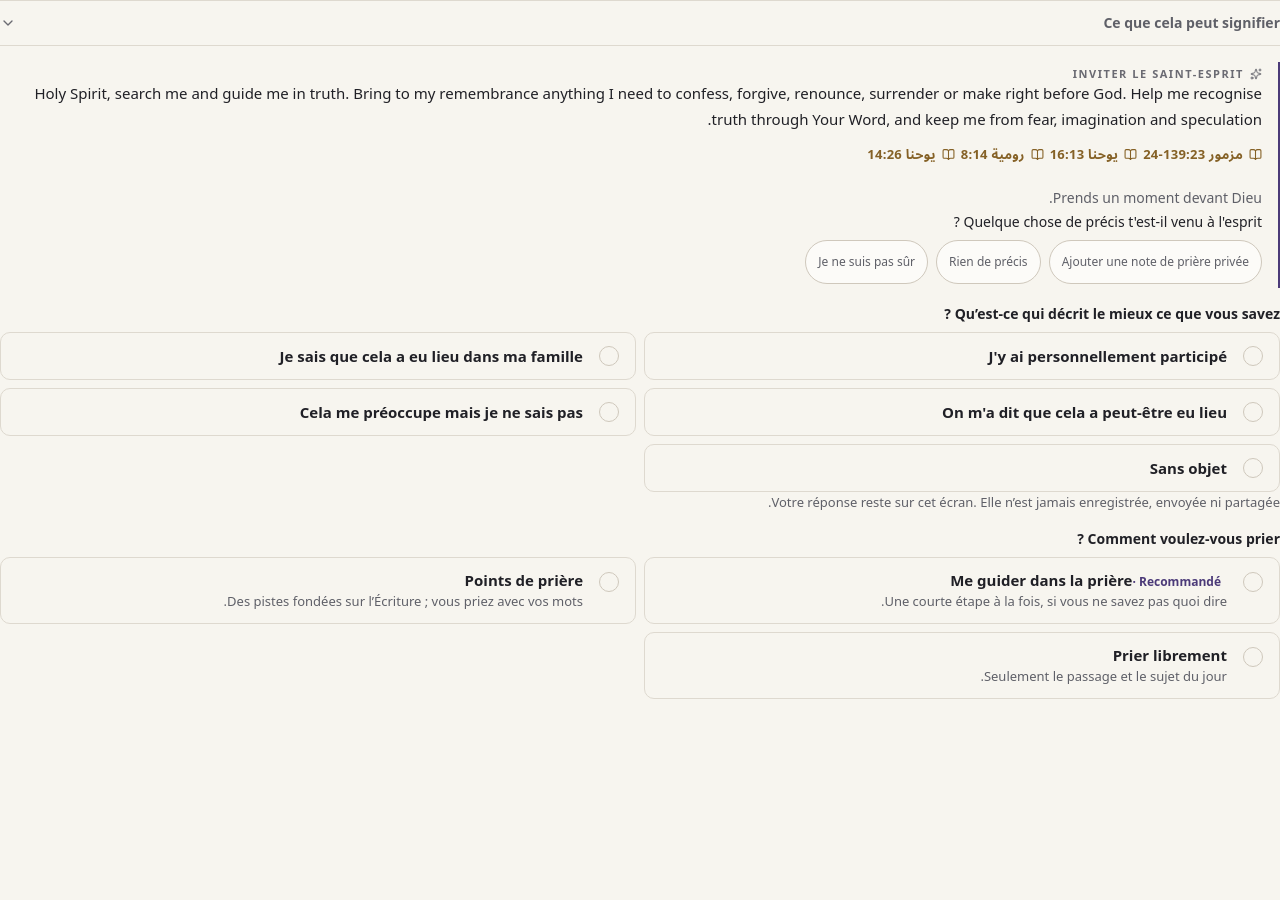
Test: the freedom plan day in a real RTL browser › can be paused from the RTL dialog
The image size is (1280, 900).
Click the text "Me guider dans la prière". click: (1086, 580)
box: [950, 570, 1221, 590]
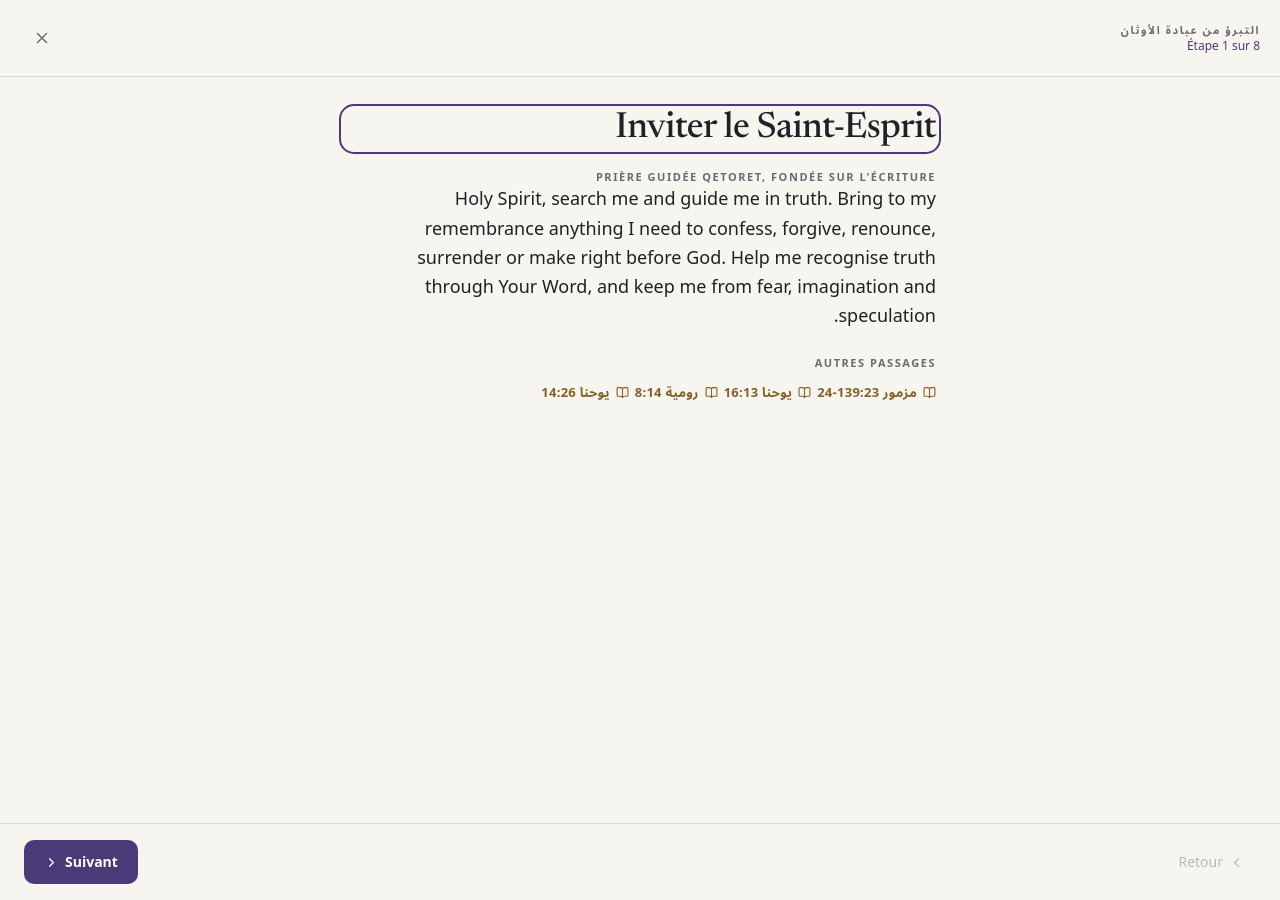
Click the button named "Pause". click: (42, 38)
box: [20, 16, 64, 60]
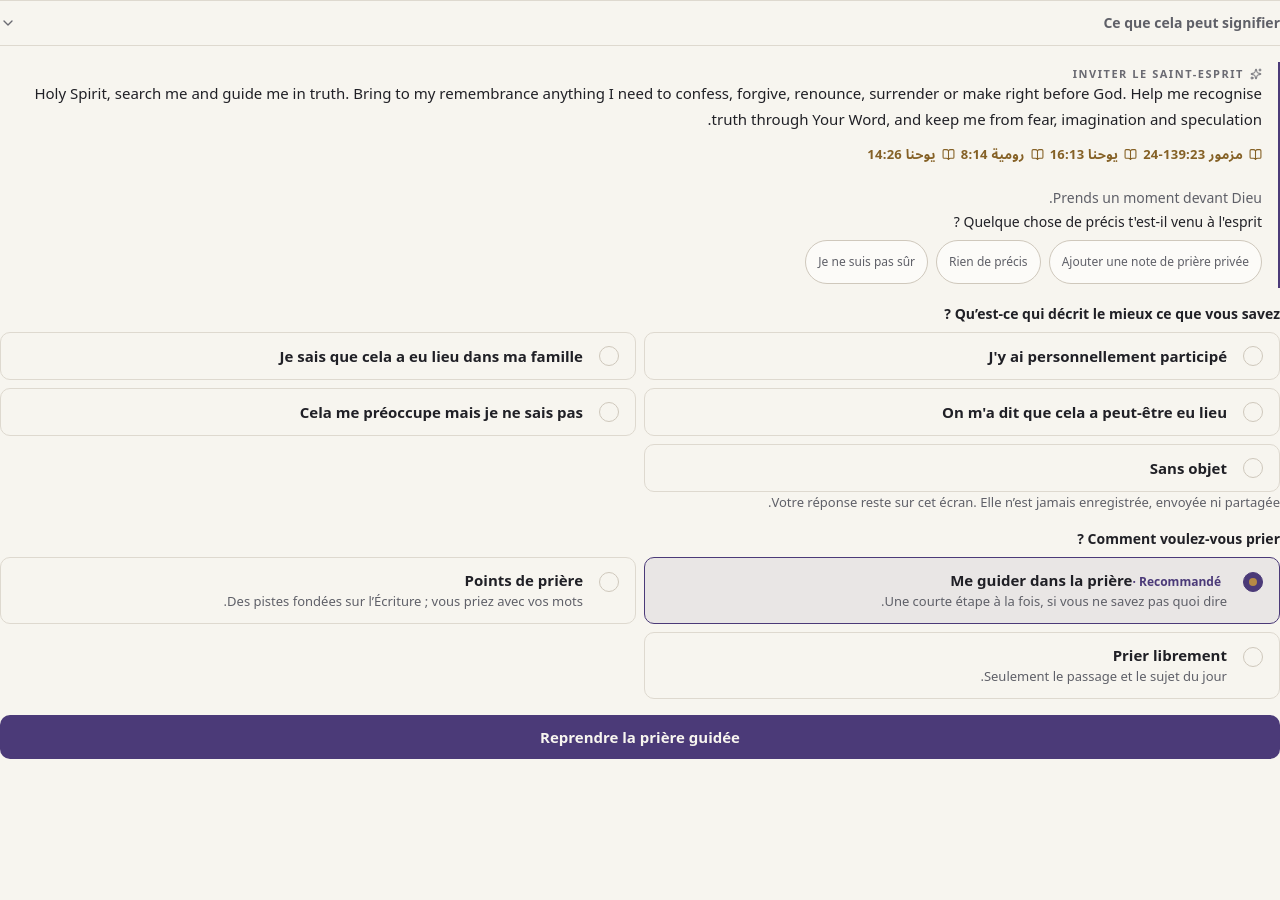
Check: the dialog is gone
